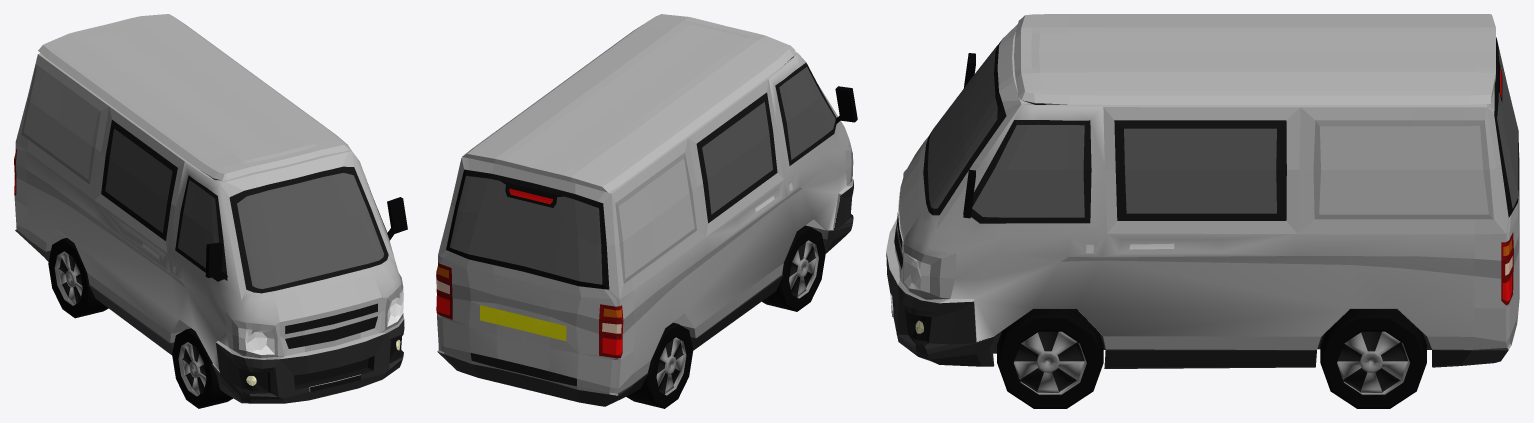
The model's file is Van2GLB.glb.
The picture shows the model from 3 angles, left to right: view 1: azimuth 30°, elevation 25°; view 2: azimuth 150°, elevation 25°; view 3: azimuth 270°, elevation 25°; orthographic projection. The views are drawn at different scales.
Parts seen in each view (by area): view 1: Van2Body, WheelRightFront, WheelRightBack, Mirror; view 2: Van2Body, WheelRightBack, WheelRightFront, Mirror; view 3: Van2Body, WheelLeftFront, WheelLeftBack, Mirror.
Part boxes in pixels (box(x1,y1,x2,y2)): Van2Body: box(14, 14, 404, 403); WheelRightFront: box(172, 328, 232, 408); WheelRightBack: box(48, 238, 108, 318); Mirror: box(205, 197, 407, 280); Van2Body: box(436, 14, 853, 406); WheelRightBack: box(626, 322, 693, 408); WheelRightFront: box(762, 225, 825, 311); Mirror: box(835, 86, 857, 124); Van2Body: box(886, 14, 1519, 368); WheelLeftFront: box(997, 308, 1103, 408); WheelLeftBack: box(1320, 309, 1426, 408); Mirror: box(963, 53, 975, 218).
Size of the model in its own units: 3.01 by 3.38 by 6.34.
Materials: 1 (1 with a texture image).
